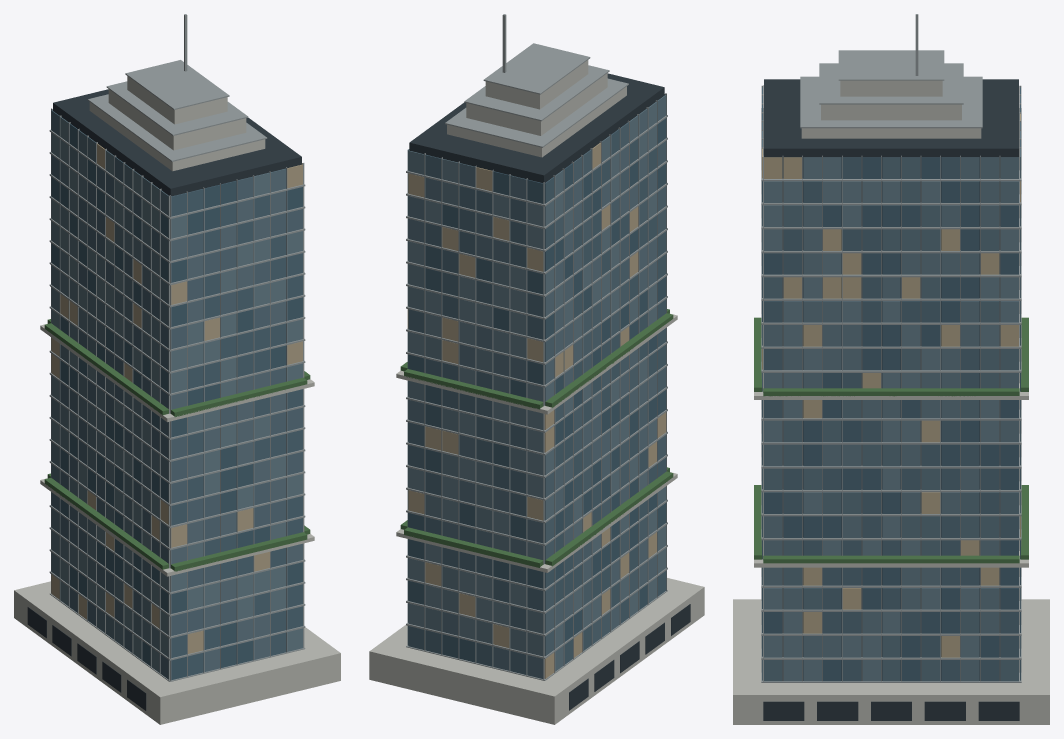
The model's file is skyline_1.glb.
The picture shows the model from 3 angles, left to right: view 1: azimuth 30°, elevation 25°; view 2: azimuth 150°, elevation 25°; view 3: azimuth 270°, elevation 25°; orthographic projection. The views are drawn at different scales.
Visible parts, largest first — view 1: champagne_aluminium, glass_1, glass_4, warm_mineral_stone, glass_3, glass_2, glass_0, shadow_recess, interior_shade, roof_garden; view 2: champagne_aluminium, glass_1, glass_4, warm_mineral_stone, glass_3, glass_2, glass_0, shadow_recess, interior_shade, roof_garden; view 3: champagne_aluminium, warm_mineral_stone, glass_3, glass_0, shadow_recess, glass_4, glass_1, glass_2, interior_shade, roof_garden.
Boxes of the visible parts, x1,y1,x2,y2 form: champagne_aluminium: (49, 14, 305, 681); glass_1: (51, 110, 302, 679); glass_4: (51, 117, 302, 672); warm_mineral_stone: (14, 76, 340, 724); glass_3: (51, 153, 302, 671); glass_2: (51, 130, 302, 639); glass_0: (51, 109, 302, 680); shadow_recess: (27, 89, 301, 710); interior_shade: (51, 143, 302, 653); roof_garden: (44, 319, 310, 571); champagne_aluminium: (406, 14, 667, 680); glass_1: (407, 94, 666, 674); glass_4: (407, 102, 666, 671); warm_mineral_stone: (369, 60, 704, 724); glass_3: (407, 95, 666, 656); glass_2: (407, 122, 666, 678); glass_0: (407, 118, 666, 662); shadow_recess: (409, 73, 690, 710); interior_shade: (407, 143, 666, 678); roof_garden: (400, 309, 673, 567); champagne_aluminium: (761, 14, 1021, 682); warm_mineral_stone: (733, 80, 1049, 724); glass_3: (762, 140, 1020, 681); glass_0: (762, 87, 1020, 681); shadow_recess: (763, 79, 1019, 720); glass_4: (762, 131, 1020, 681); glass_1: (762, 87, 1020, 681); glass_2: (762, 96, 1020, 681); interior_shade: (762, 113, 1020, 657); roof_garden: (754, 317, 1028, 563).
Bounding box in the file's own units: 30.1 × 98.5 × 42.
